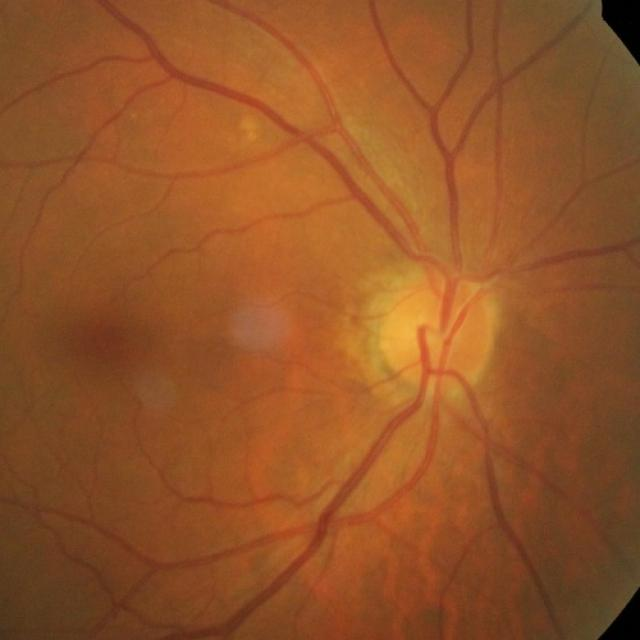OD: (381, 281, 492, 394)
